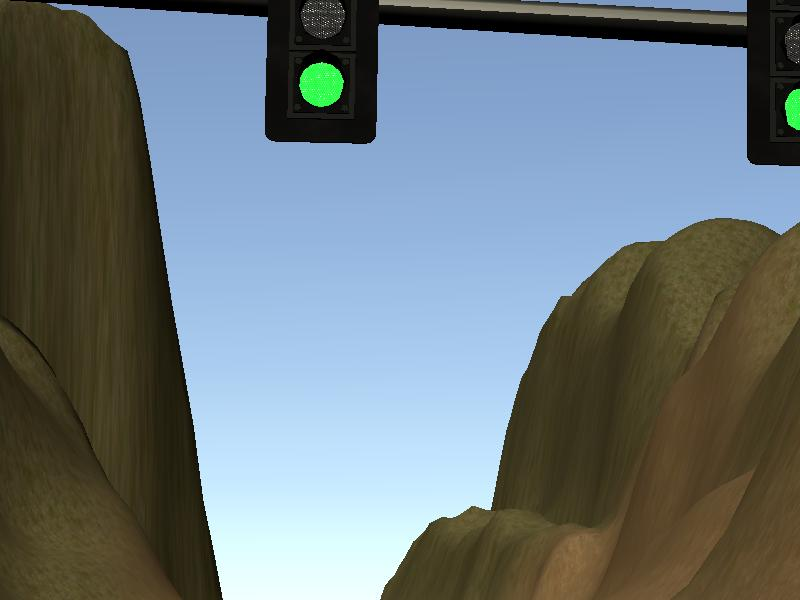not_red: (269, 6, 378, 143), (746, 5, 798, 165)
